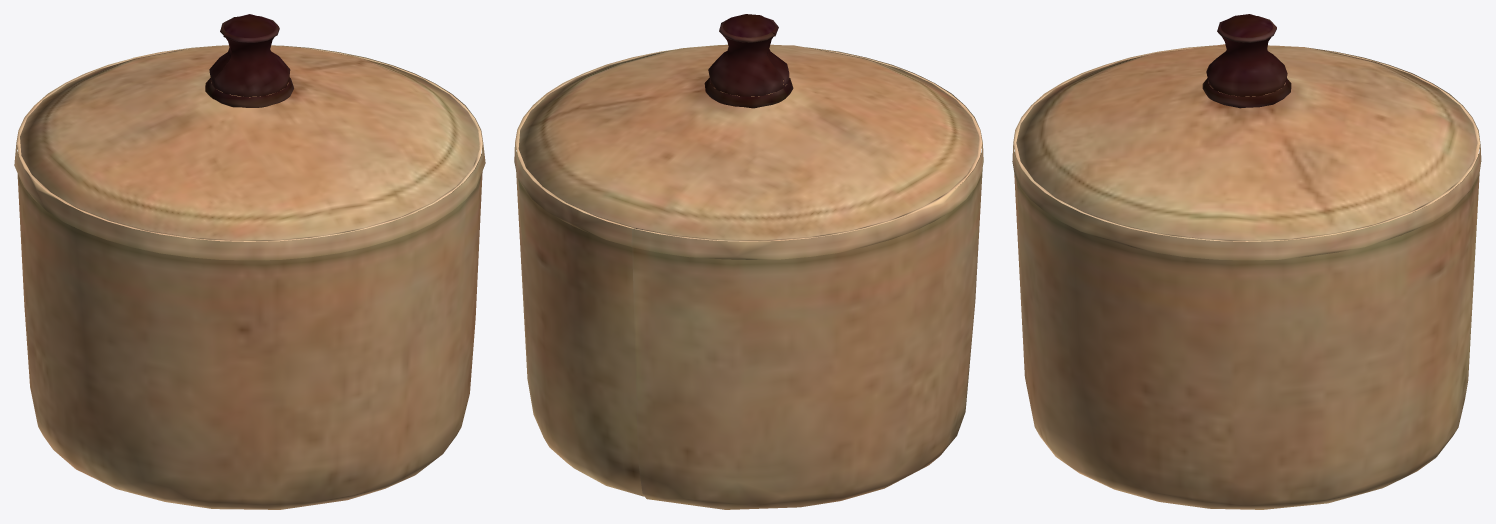
Rendered from brass_pot_01.glb.
3 renders of one model, left to right at view 1: azimuth 30°, elevation 25°; view 2: azimuth 150°, elevation 25°; view 3: azimuth 270°, elevation 25°, orthographic.
Visible parts, largest first — view 1: brass_pot_01; view 2: brass_pot_01; view 3: brass_pot_01.
Boxes of the visible parts, x1,y1,x2,y2 form: brass_pot_01: (14, 14, 485, 509); brass_pot_01: (514, 14, 983, 509); brass_pot_01: (1012, 14, 1481, 509).
Size of the model in its own units: 0.3005 by 0.291 by 0.3001.
1 material, 1 textured.
